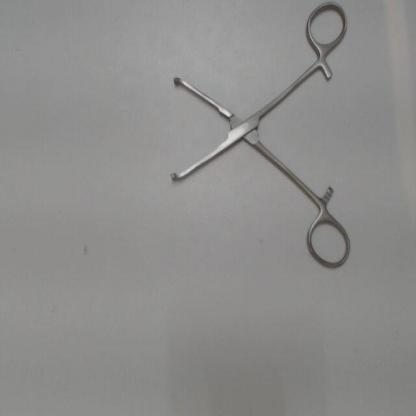Allis Tissue Forceps: (168, 1, 357, 276)
